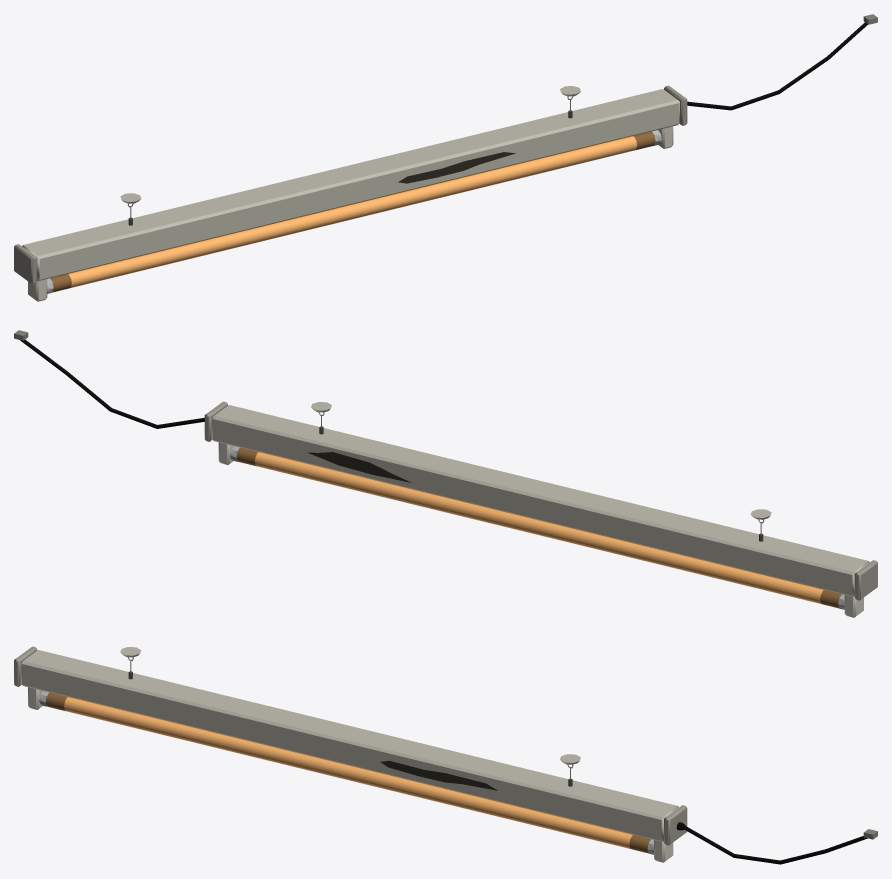
File: tube_orange.glb
The picture shows the model from 3 angles, top to bottom: view 1: azimuth 30°, elevation 25°; view 2: azimuth 150°, elevation 25°; view 3: azimuth 330°, elevation 25°; orthographic projection.
Visible parts, largest first — view 1: roehre0, roehre4, roehre1, roehre8, roehre9, roehre2, roehre3; view 2: roehre0, roehre4, roehre1, roehre8, roehre9, roehre2, roehre3; view 3: roehre0, roehre4, roehre1, roehre8, roehre9, roehre2, roehre3.
Part boxes in pixels (x1,y1,x2,y2): roehre0: (22,86,679,280); roehre4: (68,136,636,288); roehre1: (14,85,687,284); roehre8: (687,22,867,110); roehre9: (398,152,515,183); roehre2: (28,126,673,301); roehre3: (50,131,655,292); roehre0: (212,402,869,596); roehre4: (255,452,823,604); roehre1: (204,401,877,600); roehre8: (20,339,204,428); roehre9: (308,452,411,482); roehre2: (218,442,863,617); roehre3: (236,447,841,608); roehre0: (21,647,678,841); roehre4: (64,697,632,849); roehre1: (14,646,687,845); roehre8: (676,822,867,864); roehre9: (380,760,497,790); roehre2: (28,687,673,862); roehre3: (45,692,650,853).
Size of the model in its own units: 1.63 by 0.142 by 0.062.
